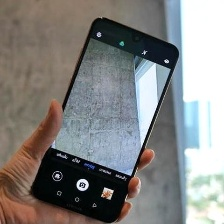phone: (22, 10, 182, 224)
